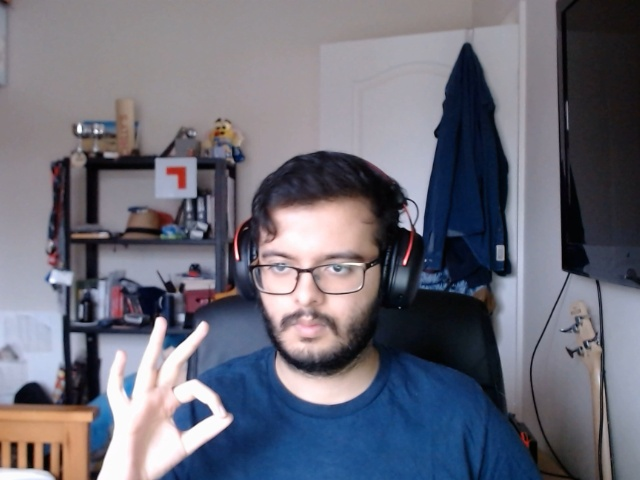Okay: (82, 308, 247, 480)
